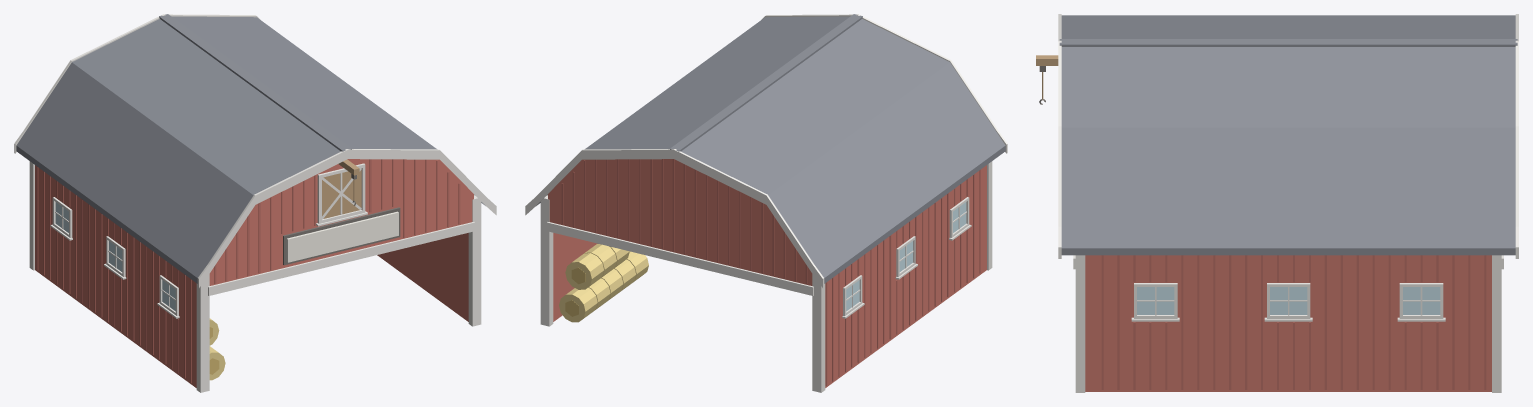
Rendered from haybarn.glb.
3 views of the same model, side by side, from view 1: azimuth 30°, elevation 25°; view 2: azimuth 150°, elevation 25°; view 3: azimuth 270°, elevation 25° (orthographic). The views are drawn at different scales.
Visible parts, largest first — view 1: roof_slab, wall_R, gable_F, battens_R, fascia, wall_L, corners, signboard, beam_F, gable_battens_F, ridge_cap, window_frames_R (+5 smaller); view 2: roof_slab, gable_B, wall_R, battens_R, fascia, gable_battens_B, bales, corners, beam_B, ridge_cap, wall_L, window_frames_R (+1 smaller); view 3: roof_slab, wall_L, battens_L, ridge_cap, window_glass_L, corners, window_frames_L, fascia.
Boxes of the visible parts, <box> form: roof_slab: <box>16,16,485,283</box>; wall_R: <box>35,165,196,387</box>; gable_F: <box>209,159,473,285</box>; battens_R: <box>36,166,191,382</box>; fascia: <box>14,14,496,287</box>; wall_L: <box>377,233,468,321</box>; corners: <box>29,161,481,392</box>; signboard: <box>286,211,398,262</box>; beam_F: <box>208,222,474,295</box>; gable_battens_F: <box>214,159,460,283</box>; ridge_cap: <box>159,14,351,151</box>; window_frames_R: <box>50,197,179,318</box>; roof_slab: <box>536,16,1005,283</box>; gable_B: <box>548,159,812,285</box>; wall_R: <box>825,165,986,387</box>; battens_R: <box>825,169,980,386</box>; fascia: <box>525,14,1007,287</box>; gable_battens_B: <box>561,159,807,283</box>; bales: <box>559,243,648,322</box>; corners: <box>540,161,992,392</box>; beam_B: <box>547,222,813,295</box>; ridge_cap: <box>670,14,862,151</box>; wall_L: <box>553,233,597,321</box>; window_frames_R: <box>842,197,971,318</box>; roof_slab: <box>1061,15,1515,255</box>; wall_L: <box>1085,255,1491,391</box>; battens_L: <box>1101,255,1486,389</box>; ridge_cap: <box>1059,39,1517,46</box>; window_glass_L: <box>1137,287,1440,314</box>; corners: <box>1075,255,1501,392</box>; window_frames_L: <box>1131,283,1445,321</box>; fascia: <box>1058,14,1518,258</box>.
Size of the model in its own units: 16.1 by 11.06 by 18.16.
